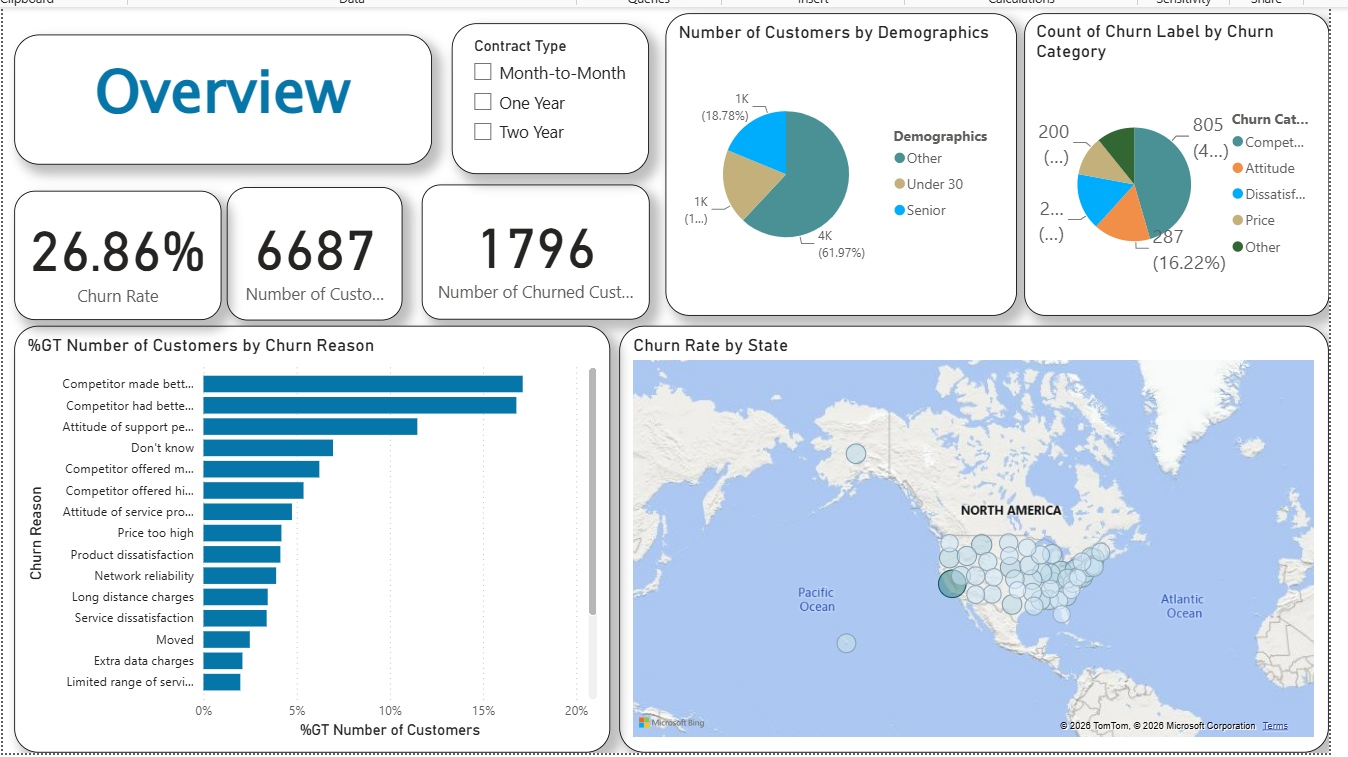

What the dashboard file says about the page in this screenshot:
{"tool":"powerbi","page":{"name":"Overview","canvas":[1280,720],"ordinal":0},"visuals":[{"type":"card","fields":{"Values":["_Calculations.Number of Customers"]},"box":[216.3,173.3,169.8,129.1],"z":0},{"type":"card","fields":{"Values":["_Calculations.Number of Churned Customers"]},"box":[404.2,171.3,219.8,130.2],"z":1000},{"type":"pieChart","fields":{"Category":["Databel - Data.Demographics"],"Y":["_Calculations.Number of Customers"]},"box":[639.4,6,339,292],"z":2000},{"type":"pieChart","fields":{"Category":["Databel - Data.Churn Category"],"Y":["CountNonNull(Databel - Data.Churn Label)"]},"box":[985.7,6,294.4,292],"z":3000},{"type":"map","fields":{"Category":["Databel - Data.State"],"Size":["_Calculations.Churn Rate"]},"box":[595.4,308.1,684.9,411.6],"z":4000},{"type":"slicer","fields":{"Values":["Databel - Data.Contract Type"]},"box":[433.1,15.7,190.6,146],"z":5000},{"type":"clusteredBarChart","fields":{"Category":["Databel - Data.Churn Reason"],"Y":["_Calculations.Number of Customers"]},"box":[10.5,308.1,575.6,411.6],"z":6000},{"type":"card","fields":{"Values":["_Calculations.Churn Rate"]},"box":[10.5,176.7,200,124.4],"z":7000},{"type":"textbox","box":[10.9,26.5,403,125.5],"z":8000}]}

Visuals, with their boxes in screenshot pixels (x1, y1, x2, y2):
card - _Calculations.Number of Customers: 221:183:397:318
card - _Calculations.Number of Churned Customers: 416:181:645:317
pieChart - Databel - Data.Demographics x _Calculations.Number of Customers: 661:10:1013:313
pieChart - Databel - Data.Churn Category x CountNonNull(Databel - Data.Churn Label): 1020:10:1326:313
map - Databel - Data.State x _Calculations.Churn Rate: 615:323:1326:751
slicer - Databel - Data.Contract Type: 446:20:644:171
clusteredBarChart - Databel - Data.Churn Reason x _Calculations.Number of Customers: 7:323:605:751
card - _Calculations.Churn Rate: 7:187:215:316
textbox: 8:31:426:161
